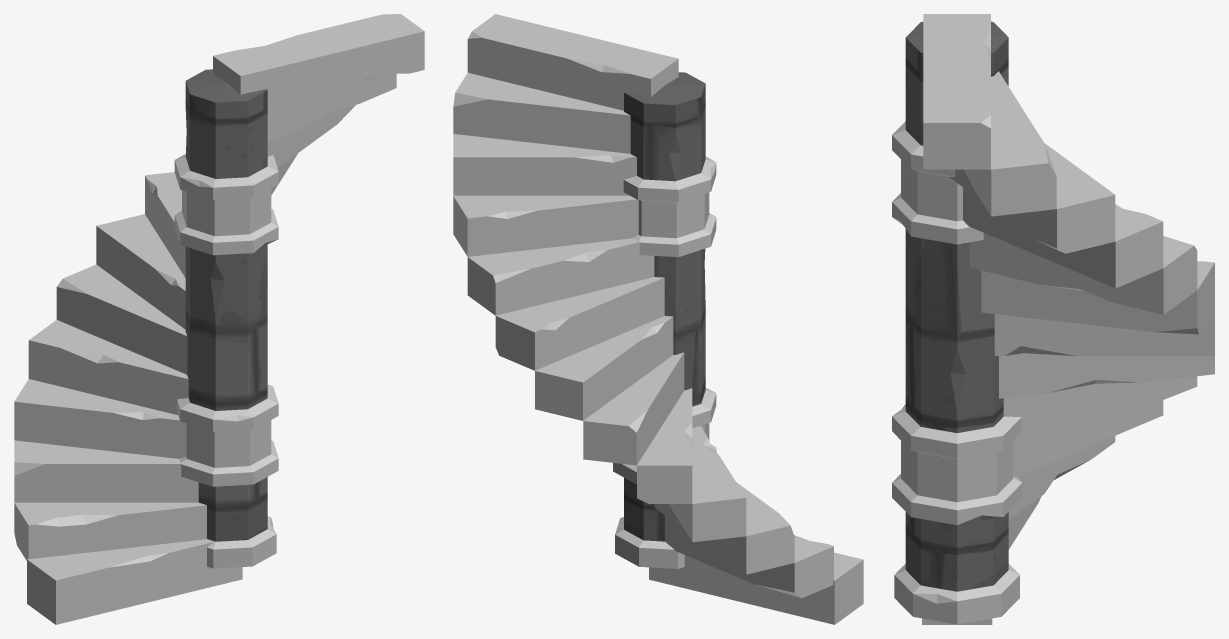
Rendered from SM_Bld_Stairs_Curve_02.fbx.
The picture shows the model from 3 angles, left to right: view 1: azimuth 30°, elevation 25°; view 2: azimuth 150°, elevation 25°; view 3: azimuth 270°, elevation 25°; orthographic projection. The views are drawn at different scales.
Parts seen in each view (by area): view 1: SM_Bld_Stairs_Curve_02; view 2: SM_Bld_Stairs_Curve_02; view 3: SM_Bld_Stairs_Curve_02.
Boxes of the visible parts, x1,y1,x2,y2 form: SM_Bld_Stairs_Curve_02: (14,14,424,624); SM_Bld_Stairs_Curve_02: (453,14,863,624); SM_Bld_Stairs_Curve_02: (892,14,1214,624).
Size of the model in its own units: 251 by 327 by 157.
